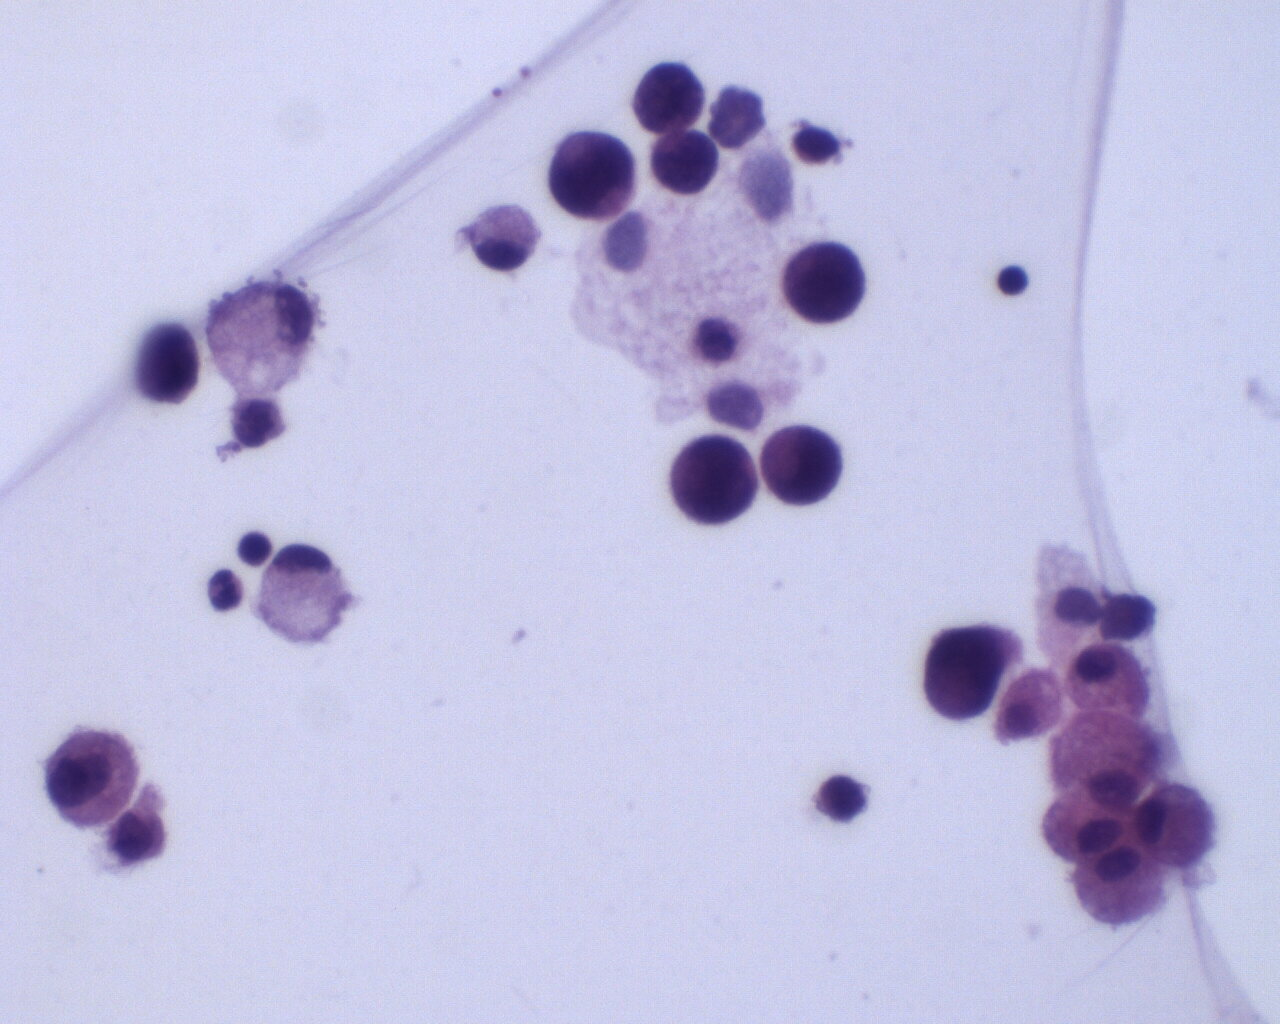ab: (921, 607, 1023, 730), (44, 726, 143, 831), (664, 428, 763, 531), (543, 120, 638, 222), (761, 417, 848, 512), (778, 235, 868, 326), (127, 315, 204, 411), (630, 59, 713, 136), (648, 123, 724, 197), (113, 805, 173, 867)
histo: (205, 267, 321, 392), (260, 544, 348, 648), (465, 199, 544, 276)
lymph: (991, 257, 1031, 305)
meso: (1131, 775, 1221, 871), (1070, 845, 1168, 927), (1064, 639, 1155, 722)
neutro: (203, 560, 247, 619)
